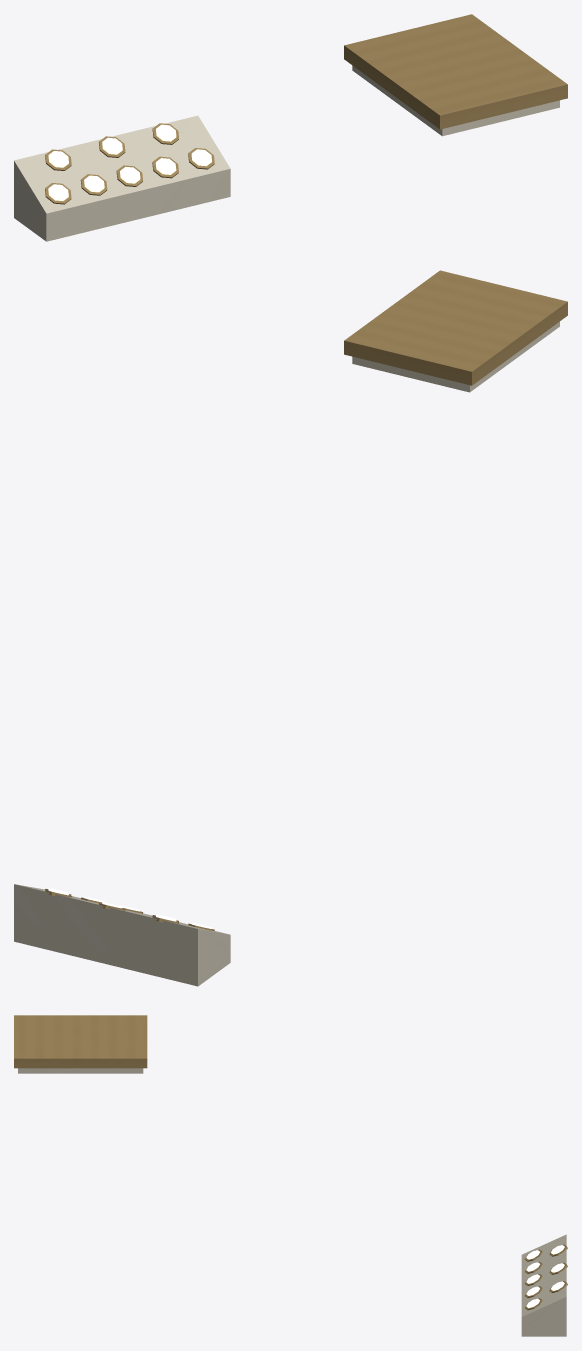
The model's file is AST-TRM-G4-034_car_console_worklamp_r001.glb.
3 views of the same model, one above another, from view 1: azimuth 30°, elevation 25°; view 2: azimuth 150°, elevation 25°; view 3: azimuth 270°, elevation 25° (orthographic). The views are drawn at different scales.
Parts seen in each view (by area): view 1: CarWorkLamp_RoofReceiver, CarConsole_ReceivedSlopedHousing, CarWorkLamp_EnamelShade; view 2: CarWorkLamp_RoofReceiver, CarConsole_ReceivedSlopedHousing, CarWorkLamp_EnamelShade; view 3: CarWorkLamp_RoofReceiver, CarConsole_ReceivedSlopedHousing, CarWorkLamp_EnamelShade.
Part boxes in pixels (x1,y1,x2,y2): CarWorkLamp_RoofReceiver: [344, 14, 567, 129]; CarConsole_ReceivedSlopedHousing: [14, 115, 230, 241]; CarWorkLamp_EnamelShade: [352, 65, 559, 136]; CarWorkLamp_RoofReceiver: [344, 270, 567, 385]; CarConsole_ReceivedSlopedHousing: [14, 884, 230, 986]; CarWorkLamp_EnamelShade: [352, 321, 559, 392]; CarWorkLamp_RoofReceiver: [14, 1015, 147, 1068]; CarConsole_ReceivedSlopedHousing: [521, 1234, 566, 1336]; CarWorkLamp_EnamelShade: [18, 1068, 143, 1073].
Size of the model in its own units: 0.72 by 1.45 by 2.7.
3 materials, 3 textured.
